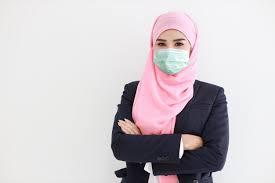Wearing Mask: (149, 13, 201, 77)
